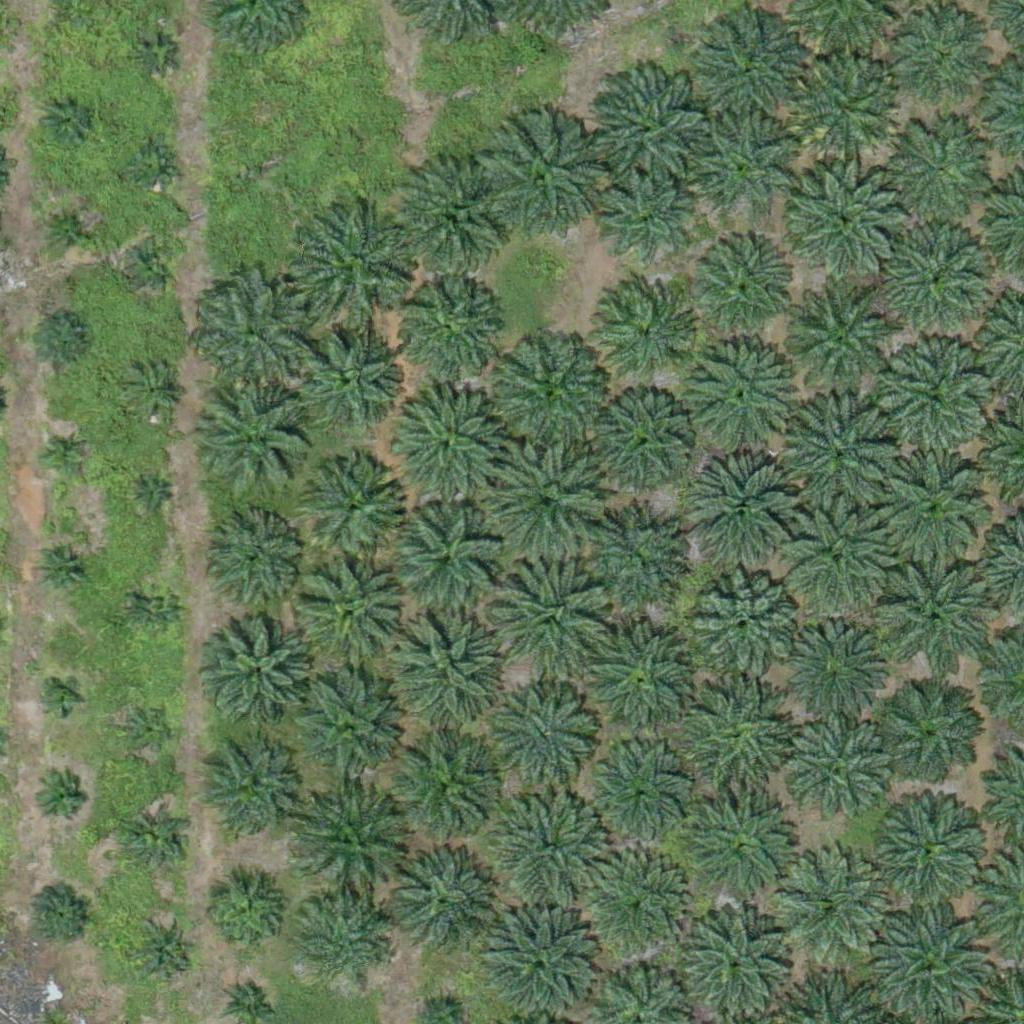Kelapa_Sawit: (584, 66, 709, 192), (478, 119, 603, 245), (295, 204, 420, 330), (485, 437, 610, 563), (487, 327, 612, 453), (673, 678, 798, 804), (683, 788, 808, 914), (382, 605, 507, 731), (489, 553, 614, 679), (668, 896, 793, 1022), (397, 158, 510, 272), (497, 790, 610, 904), (791, 160, 904, 273), (788, 287, 901, 400), (782, 400, 895, 513), (681, 334, 794, 447), (781, 508, 894, 621), (875, 451, 988, 564), (387, 385, 500, 498), (386, 502, 499, 615), (873, 791, 986, 904), (879, 566, 992, 679), (775, 611, 888, 724), (383, 846, 496, 959), (575, 846, 688, 959), (682, 456, 794, 570), (389, 734, 501, 848), (297, 790, 409, 904), (293, 674, 405, 788), (296, 557, 408, 671), (775, 846, 887, 960), (875, 906, 987, 1020), (882, 112, 994, 225), (883, 222, 995, 335), (881, 338, 993, 451), (196, 277, 308, 390), (205, 383, 317, 496), (784, 720, 896, 833), (690, 569, 802, 682), (585, 623, 697, 736), (889, 5, 989, 106), (795, 55, 895, 156), (705, 17, 805, 118), (693, 115, 793, 216), (689, 236, 789, 337), (595, 168, 695, 269), (298, 327, 398, 428), (304, 455, 404, 556), (881, 683, 981, 784), (588, 751, 688, 852), (500, 691, 600, 792), (593, 283, 693, 383), (591, 392, 691, 492), (576, 515, 676, 615), (397, 276, 497, 376), (209, 621, 309, 721), (197, 747, 297, 847), (199, 870, 286, 958), (214, 517, 301, 605), (299, 897, 386, 985), (134, 922, 197, 985), (29, 881, 92, 944), (29, 309, 92, 372), (128, 812, 190, 875), (35, 772, 85, 823), (128, 366, 178, 417), (44, 201, 94, 252), (133, 584, 183, 634), (42, 92, 92, 142), (128, 239, 178, 289), (131, 29, 181, 79), (127, 140, 177, 190), (39, 429, 89, 479), (122, 703, 172, 753), (38, 543, 88, 593), (42, 678, 80, 716), (140, 484, 165, 509)
